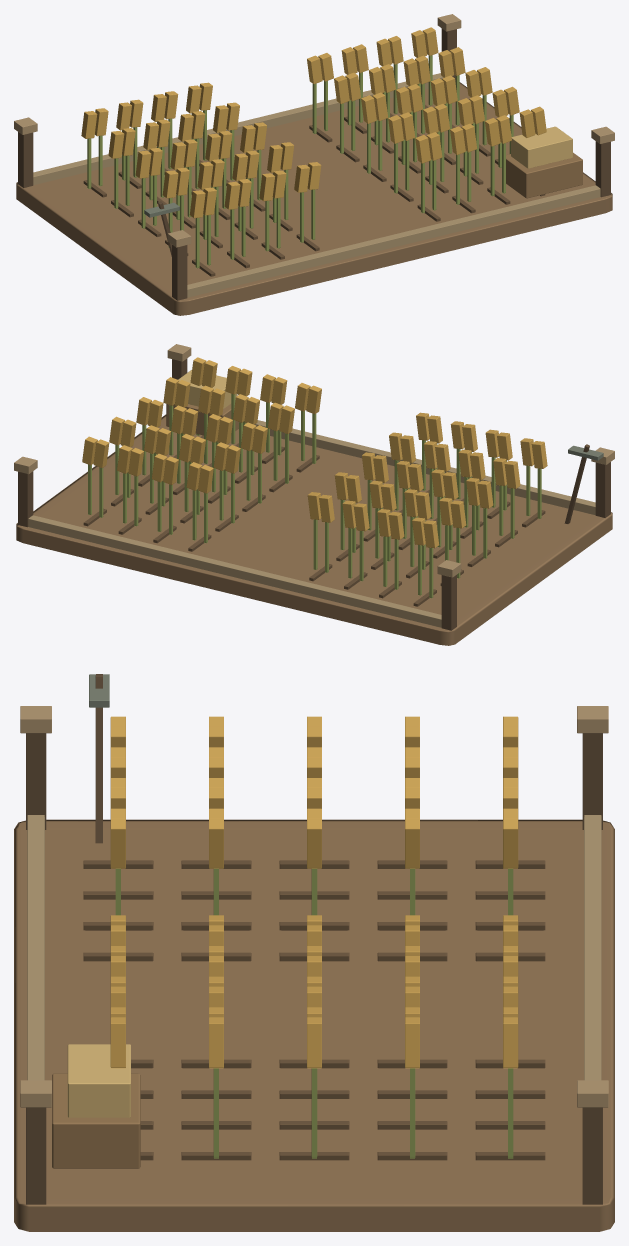
The model's file is wheatfield-1.glb.
3 renders of one model, top to bottom at view 1: azimuth 30°, elevation 25°; view 2: azimuth 150°, elevation 25°; view 3: azimuth 270°, elevation 25°, orthographic. The views are drawn at different scales.
Visible parts, largest first — view 1: wheatfield-1-0, crop-patch; view 2: wheatfield-1-0, crop-patch; view 3: wheatfield-1-0, crop-patch.
Boxes of the visible parts, x1,y1,x2,y2 form: wheatfield-1-0: (14,14,614,315); crop-patch: (81,27,546,268); wheatfield-1-0: (14,344,614,645); crop-patch: (82,357,547,598); wheatfield-1-0: (14,674,614,1231); crop-patch: (110,716,518,1158).
Bounding box in the file's own units: 2.95 × 0.6136 × 1.9.
